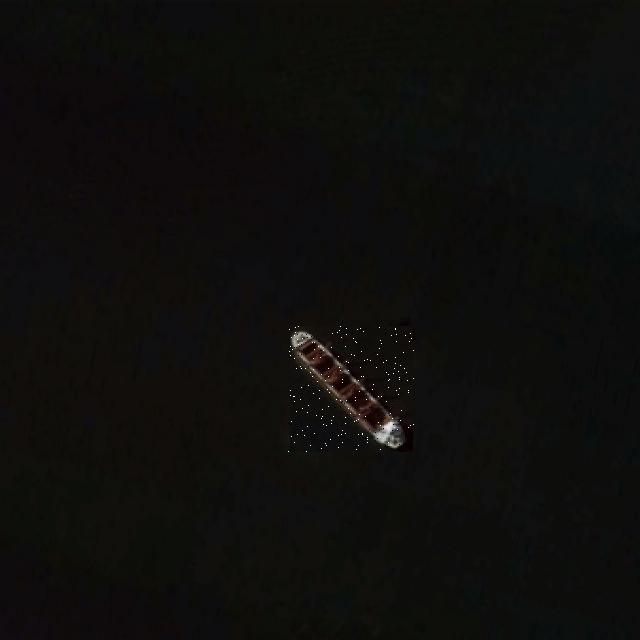boat: (288, 326, 414, 452)
